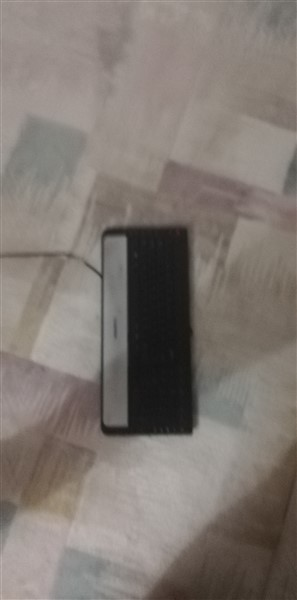klavye: (98, 225, 196, 439)
